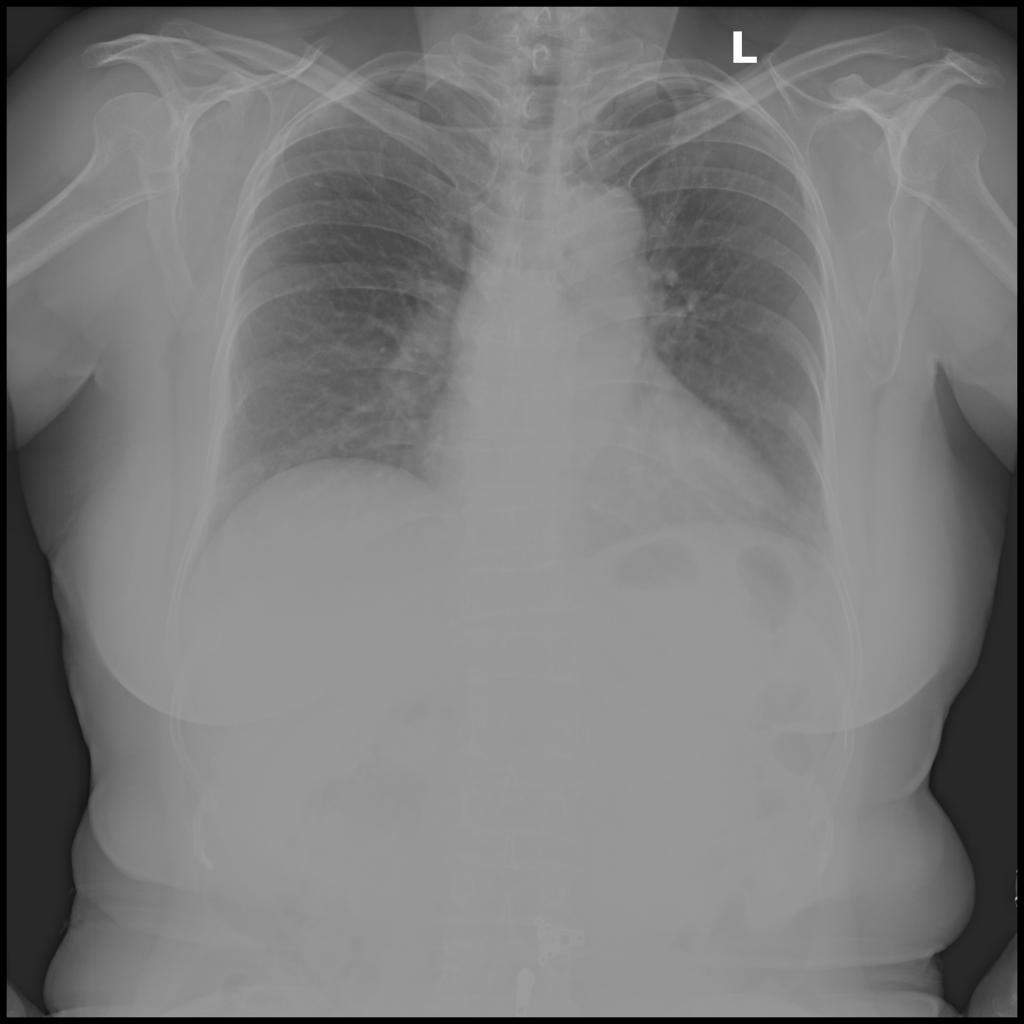Nodule: (314, 182, 325, 188)
